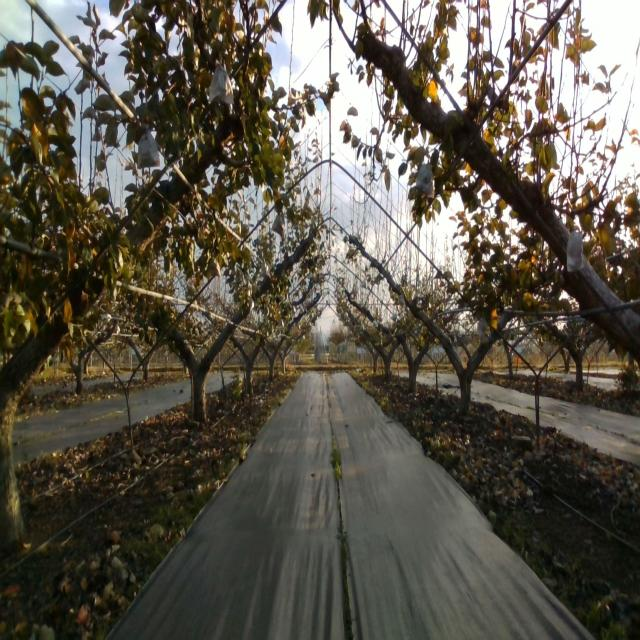pearbags: (208, 55, 234, 105), (136, 123, 160, 169), (414, 160, 435, 200), (566, 230, 584, 272), (207, 252, 221, 282), (272, 213, 286, 239), (475, 317, 488, 344)
